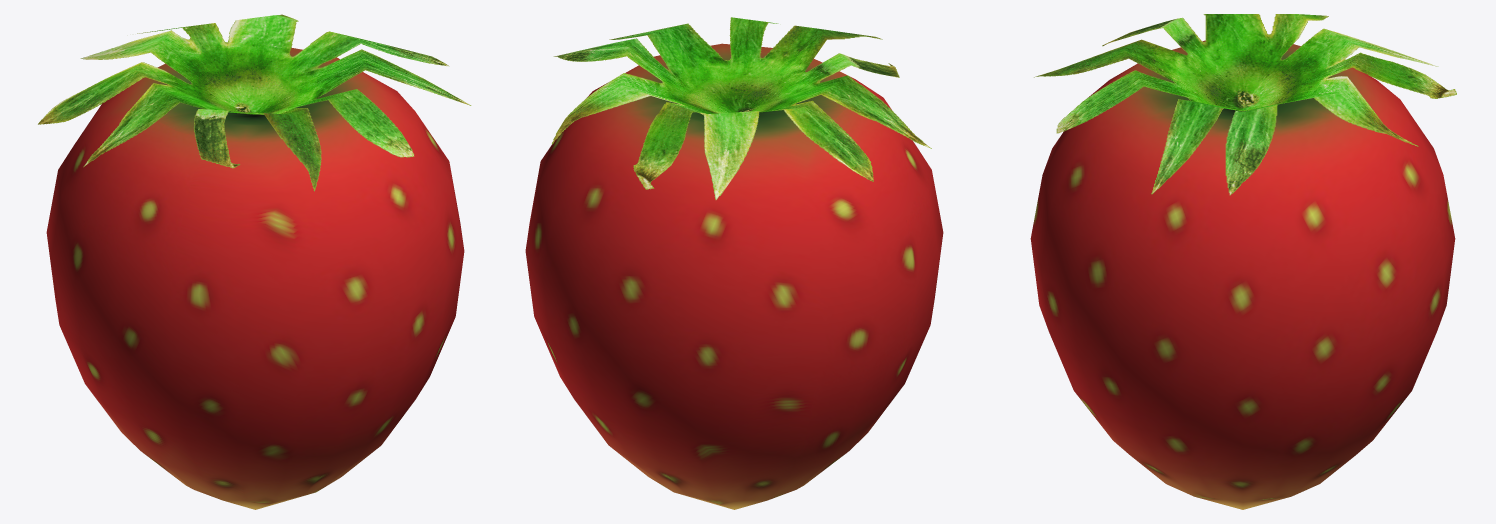
The model's file is strawberry-mp.fbx.
The picture shows the model from 3 angles, left to right: view 1: azimuth 30°, elevation 25°; view 2: azimuth 150°, elevation 25°; view 3: azimuth 270°, elevation 25°; orthographic projection.
Parts seen in each view (by area): view 1: strawberry_mp, leafs_strwbry; view 2: strawberry_mp, leafs_strwbry; view 3: strawberry_mp, leafs_strwbry.
Boxes of the visible parts, bbox=[...] form: strawberry_mp: bbox=[46, 47, 464, 509]; leafs_strwbry: bbox=[38, 14, 471, 191]; strawberry_mp: bbox=[525, 43, 943, 509]; leafs_strwbry: bbox=[552, 17, 931, 199]; strawberry_mp: bbox=[1030, 40, 1455, 509]; leafs_strwbry: bbox=[1034, 14, 1456, 195].
Bounding box in the file's own units: 57.03 × 60.79 × 58.5.
2 materials, 2 textured.
